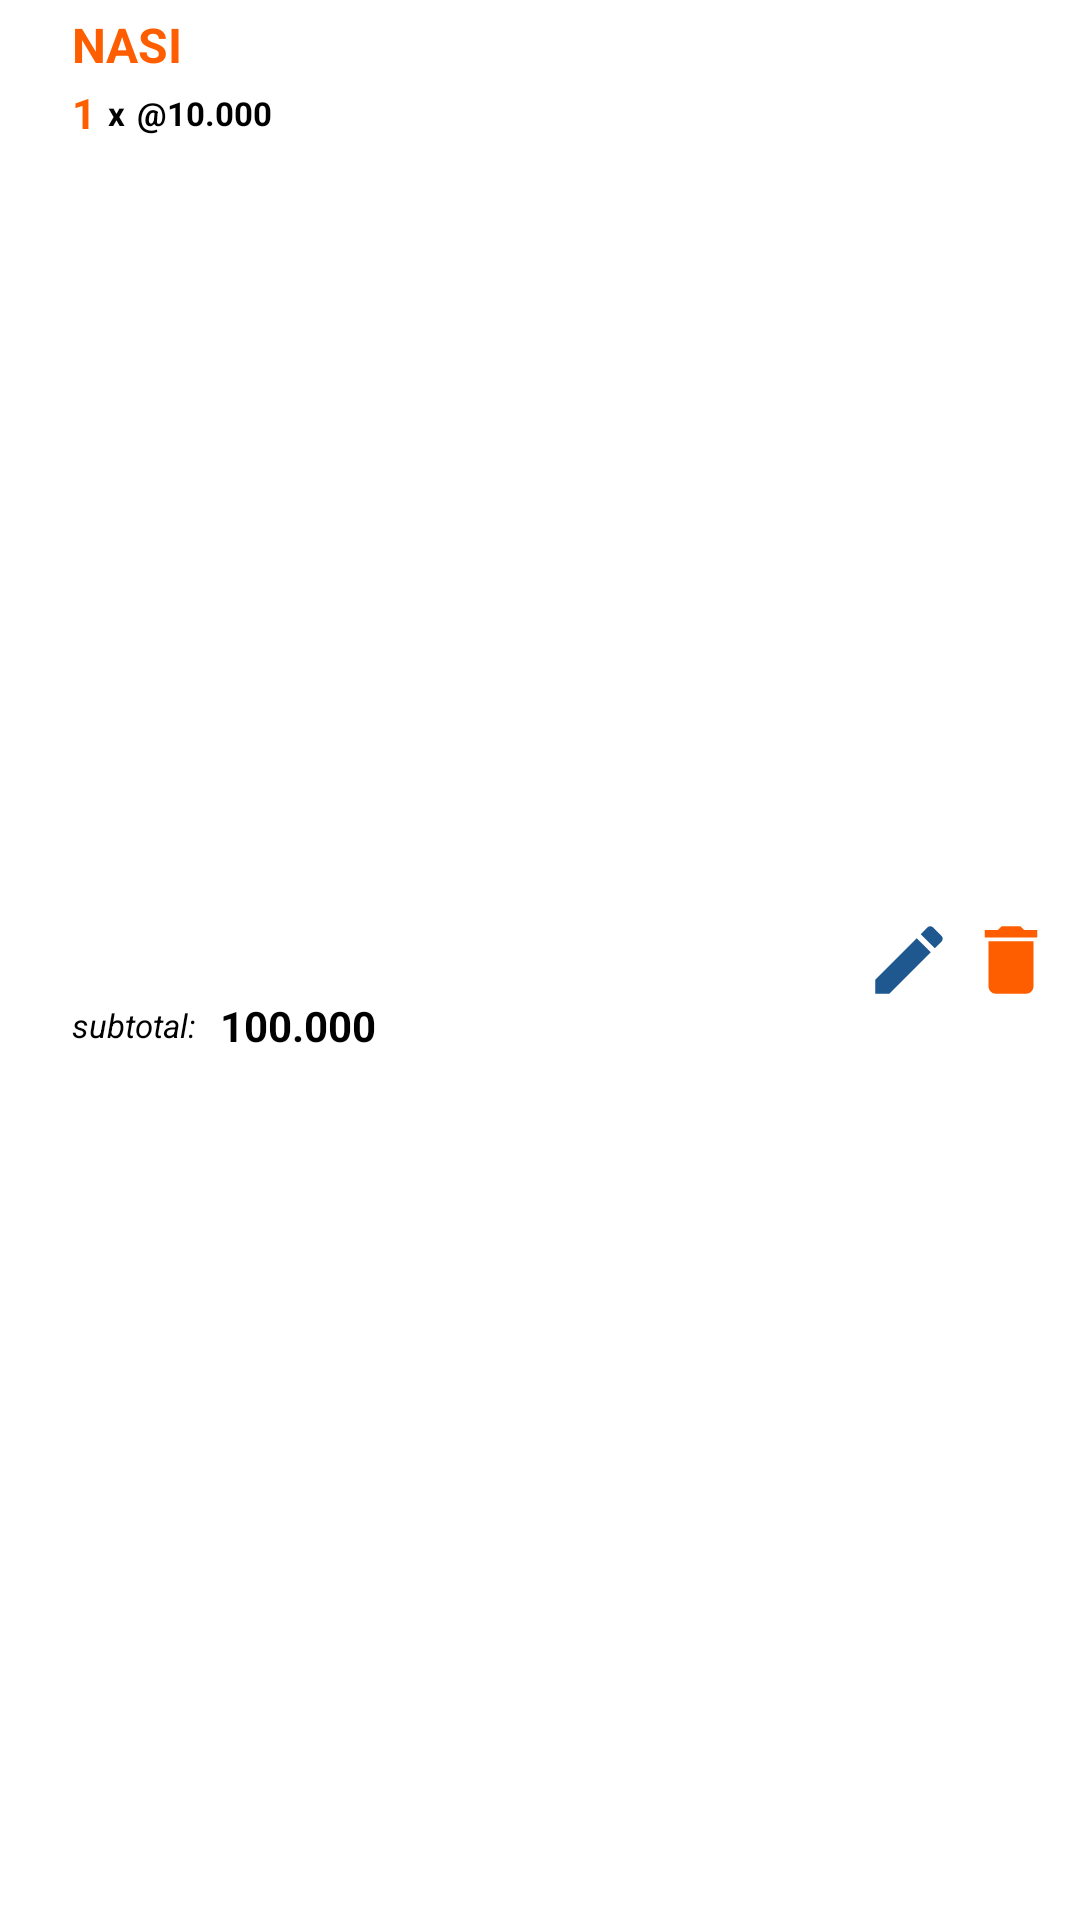

Screen size 1080*1920. Icon name, then its box in pixels as (x1, y1, x2, y2):
edit: (875, 926, 943, 994)
trash: (984, 926, 1038, 994)
